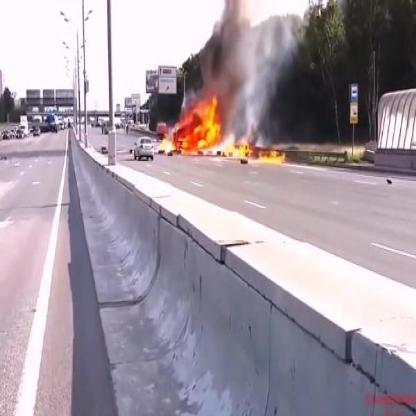fire: (162, 92, 228, 154), (257, 150, 288, 164), (230, 142, 255, 158)
